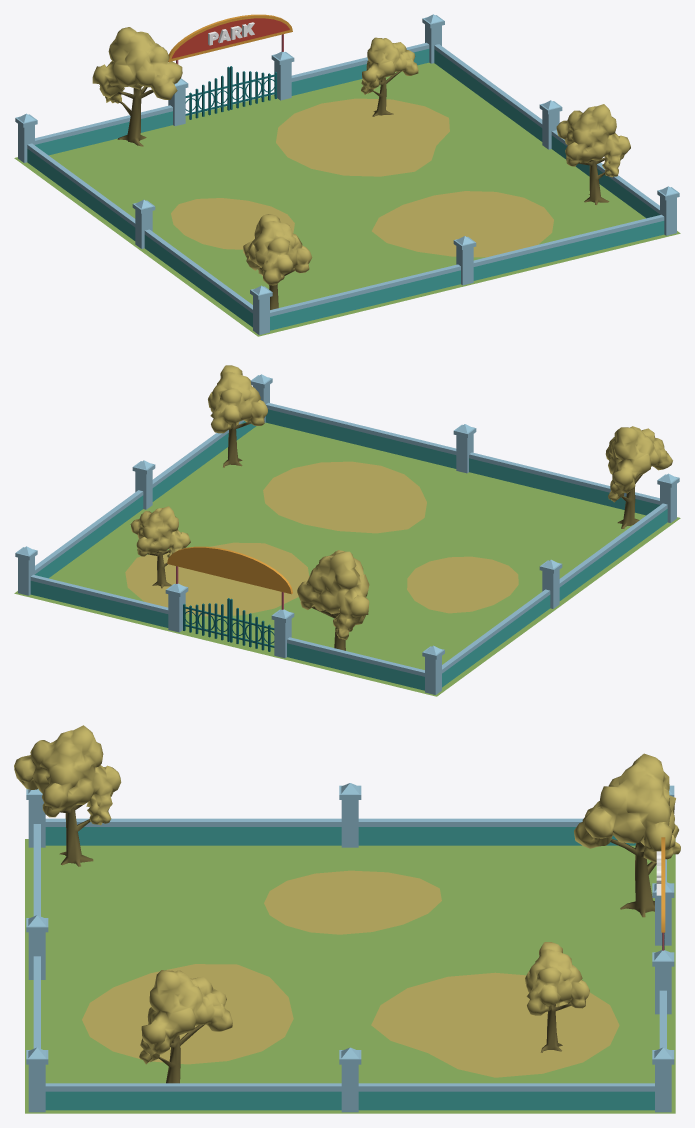
Rendered from park.fbx.
3 views of the same model, one above another, from view 1: azimuth 30°, elevation 25°; view 2: azimuth 150°, elevation 25°; view 3: azimuth 270°, elevation 25° (orthographic). The views are drawn at different scales.
Parts seen in each view (by area): view 1: park, wall.001, gate.001, tree.010, tree.011, tree.008, tree.009, pillar.007, pillar.013, pillar.008, pillar.012, pillar.011 (+2 smaller); view 2: park, wall.001, gate.001, tree.010, tree.008, tree.011, tree.009, pillar.010, pillar.013, pillar.009, pillar.012, pillar.011 (+1 smaller); view 3: park, wall.001, tree.010, tree.008, tree.011, tree.009, gate.001, pillar.008, pillar.011, pillar.012, pillar.009, pillar.013 (+1 smaller).
Part boxes in pixels (x1=…): park: x1=14, y1=62, x2=680, y2=336; wall.001: x1=27, y1=42, x2=664, y2=330; gate.001: x1=168, y1=14, x2=294, y2=126; tree.010: x1=92, y1=27, x2=182, y2=146; tree.011: x1=556, y1=104, x2=630, y2=204; tree.008: x1=243, y1=214, x2=312, y2=309; tree.009: x1=361, y1=37, x2=418, y2=116; pillar.007: x1=250, y1=285, x2=272, y2=334; pillar.013: x1=453, y1=236, x2=476, y2=285; pillar.008: x1=657, y1=186, x2=679, y2=235; pillar.012: x1=132, y1=199, x2=155, y2=248; pillar.011: x1=539, y1=100, x2=562, y2=149; park: x1=14, y1=422, x2=680, y2=696; wall.001: x1=30, y1=402, x2=667, y2=690; gate.001: x1=165, y1=546, x2=294, y2=658; tree.010: x1=297, y1=550, x2=369, y2=650; tree.008: x1=605, y1=426, x2=672, y2=528; tree.011: x1=208, y1=365, x2=267, y2=467; tree.009: x1=130, y1=506, x2=190, y2=588; pillar.010: x1=422, y1=645, x2=444, y2=694; pillar.013: x1=453, y1=424, x2=476, y2=473; pillar.009: x1=15, y1=546, x2=37, y2=595; pillar.012: x1=539, y1=559, x2=562, y2=608; pillar.011: x1=132, y1=460, x2=155, y2=509; park: x1=25, y1=839, x2=675, y2=1113; wall.001: x1=33, y1=818, x2=666, y2=1110; tree.010: x1=574, y1=753, x2=680, y2=917; tree.008: x1=14, y1=725, x2=121, y2=866; tree.011: x1=139, y1=970, x2=232, y2=1083; tree.009: x1=525, y1=942, x2=589, y2=1052; gate.001: x1=652, y1=837, x2=674, y2=1014; pillar.008: x1=26, y1=1047, x2=48, y2=1112; pillar.011: x1=339, y1=1047, x2=361, y2=1112; pillar.012: x1=339, y1=783, x2=361, y2=847; pillar.009: x1=652, y1=1047, x2=674, y2=1112; pillar.013: x1=26, y1=915, x2=48, y2=979.
Bounding box in the file's own units: 16 × 4.13 × 16.41.
1 material, 1 textured.
